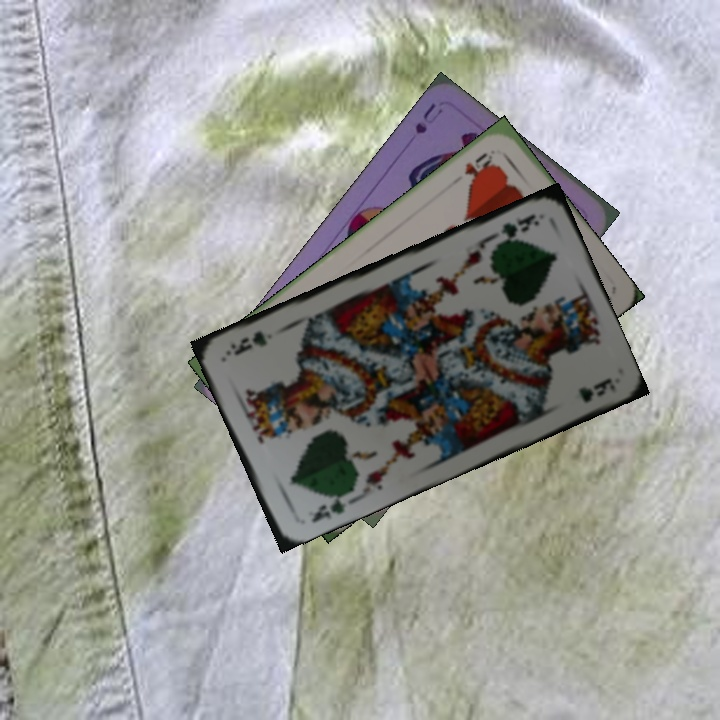GK: (491, 210, 542, 247), (307, 490, 348, 526)
HO: (460, 148, 497, 184)
SU: (411, 98, 446, 137)
